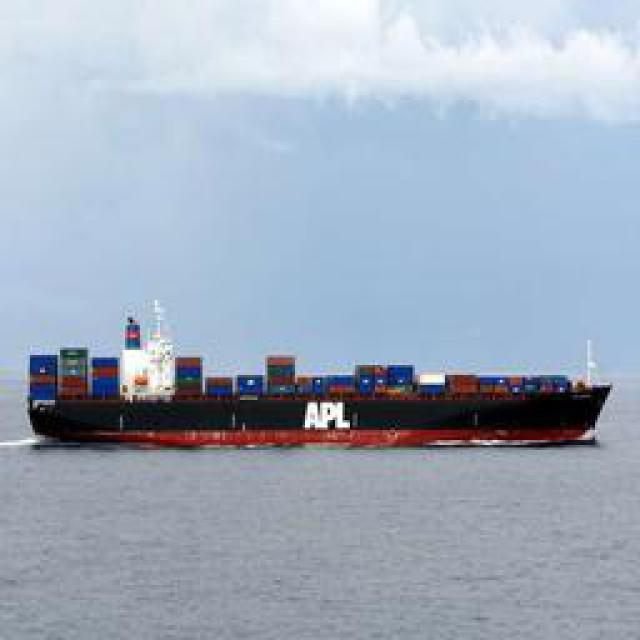Ship: (21, 324, 614, 449)
